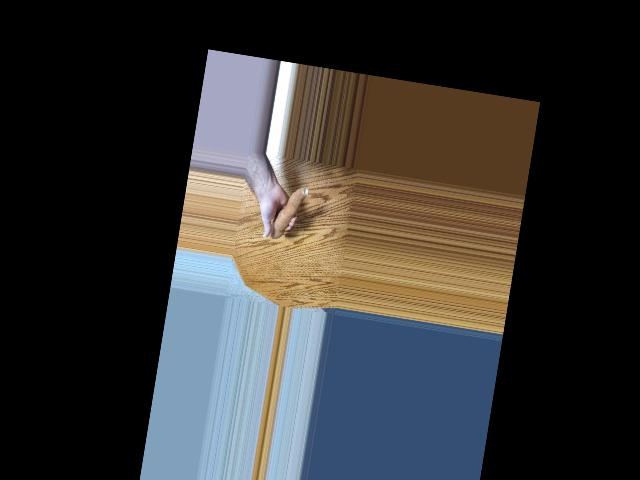sweet_potato: (270, 182, 308, 245)
